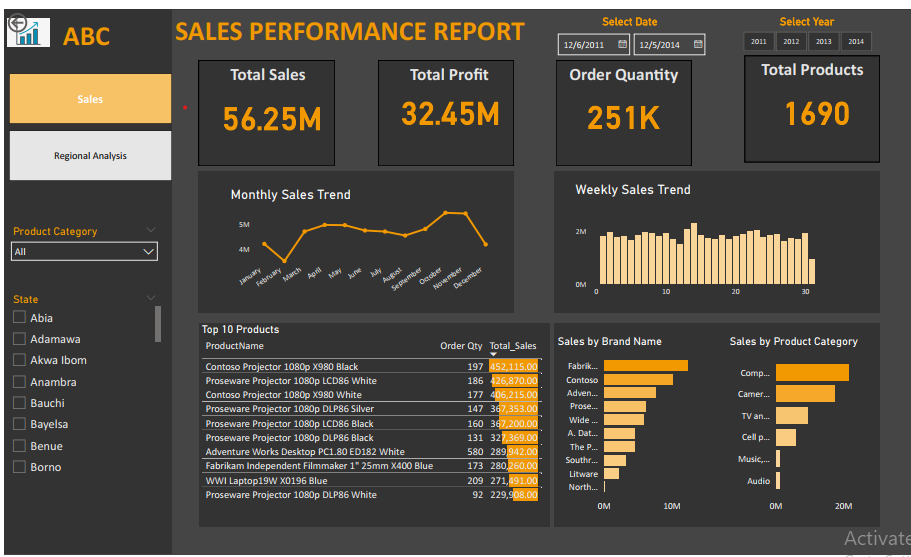

Layout of this report page (visuals, bound fields, positions):
{"tool":"powerbi","page":{"name":"Sales","canvas":[1440,840],"ordinal":0},"visuals":[{"type":"shape","box":[0,0,258.4,840.3],"z":0},{"type":"image","box":[0,7.9,75,55.2],"z":1000},{"type":"textbox","box":[258.4,0,562.2,63.1],"z":2000},{"type":"textbox","box":[84.8,7.9,90.7,63.1],"z":3000},{"type":"shape","box":[299.3,77.7,210,163.7],"z":4000},{"type":"card","fields":{"Values":["Sales_Data.Total_Sales"]},"box":[299.8,130.6,222.9,63.1],"z":5000},{"type":"textbox","box":[343.2,79.3,138.1,51.3],"z":6000},{"type":"shape","box":[576.1,77.8,209.1,163.7],"z":7000},{"type":"card","fields":{"Values":["Sales_Data.Total_Profit"]},"box":[576.1,122.4,222.9,63.1],"z":8000},{"type":"textbox","box":[620.1,77.7,163.7,51.3],"z":9000},{"type":"shape","box":[849.9,77.6,209.1,163.7],"z":10000},{"type":"card","fields":{"Values":["Sales_Data.Total_Orders_Quantity"]},"box":[842.1,129.1,222.9,63.1],"z":11000},{"type":"textbox","box":[849.9,77.6,209.1,51.3],"z":12000},{"type":"shape","box":[1140.9,71.1,208.3,163.7],"z":13000},{"type":"card","fields":{"Values":["Sales_Product.Total_Products"]},"box":[1140.3,122.4,222.9,63.1],"z":14000},{"type":"textbox","box":[1161.9,71,187.4,51.3],"z":15000},{"type":"shape","box":[299.3,249.7,486.1,218.3],"z":16000},{"type":"shape","box":[848.3,249.7,501,218.3],"z":17000},{"type":"shape","box":[299.3,482.8,540.7,314.2],"z":18000},{"type":"shape","box":[848.3,482.8,501,314.2],"z":19000},{"type":"lineChart","title":"Monthly Sales Trend","fields":{"Y":["Sales_Data.Total_Sales"],"Category":["Sales_Data.Order Date.Variation.Date Hierarchy.Month"]},"box":[343.9,272.8,415,172],"z":20000},{"type":"actionButton","box":[0,0,100,40],"z":21000},{"type":"clusteredColumnChart","title":"Weekly Sales Trend","fields":{"Y":["Sales_Data.Total_Sales"],"Category":["Sales_Data.Order Date.Variation.Date Hierarchy.Day"]},"box":[874.7,264.6,425,186.9],"z":22000},{"type":"tableEx","title":"Top 10 Products","fields":{"Values":["Sales_Product.ProductName","Sum(Sales_Data.Order Qty)","Sales_Data.Total_Sales"]},"box":[299.3,482.8,540.7,300.9],"z":23000},{"type":"clusteredBarChart","title":"Sales by Brand Name","fields":{"Y":["Sales_Data.Total_Sales"],"Category":["Sales_Product.BrandName"]},"box":[848.3,501,251.3,282.8],"z":24000},{"type":"clusteredBarChart","title":"Sales by Product Category","fields":{"Y":["Sales_Data.Total_Sales"],"Category":["Sales_Product_Sub_Cat.Product Category"]},"box":[1112.8,501,251.3,282.8],"z":25000},{"type":"slicer","title":"Select Date","fields":{"Values":["Sales_Data.Order Date"]},"box":[840,8.3,248,62.8],"z":26000},{"type":"slicer","title":"Select Year","fields":{"Values":["Sales_Data.Order Date.Variation.Date Hierarchy.Year"]},"box":[1112.8,8.3,248,62.8],"z":27000},{"type":"slicer","fields":{"Values":["Sales_Product_Sub_Cat.Product Category"]},"box":[0,327.4,246.4,62.8],"z":28000},{"type":"slicer","fields":{"Values":["Sales_State.State"]},"box":[0,431.6,246.4,291],"z":29000},{"type":"pageNavigator","box":[6.6,97.6,251.3,167],"z":30000}]}

Visuals, with their boxes on the page's 1440x840 design canvas (x1, y1, x2, y2). These are canvas units, not pixel positions in the 911x557 screenshot, which may show the page scaled, cropped or inside an application window:
shape: (x1=0, y1=0, x2=258, y2=840)
image: (x1=0, y1=8, x2=75, y2=63)
textbox: (x1=258, y1=0, x2=821, y2=63)
textbox: (x1=85, y1=8, x2=176, y2=71)
shape: (x1=299, y1=78, x2=509, y2=241)
card - Sales_Data.Total_Sales: (x1=300, y1=131, x2=523, y2=194)
textbox: (x1=343, y1=79, x2=481, y2=131)
shape: (x1=576, y1=78, x2=785, y2=242)
card - Sales_Data.Total_Profit: (x1=576, y1=122, x2=799, y2=186)
textbox: (x1=620, y1=78, x2=784, y2=129)
shape: (x1=850, y1=78, x2=1059, y2=241)
card - Sales_Data.Total_Orders_Quantity: (x1=842, y1=129, x2=1065, y2=192)
textbox: (x1=850, y1=78, x2=1059, y2=129)
shape: (x1=1141, y1=71, x2=1349, y2=235)
card - Sales_Product.Total_Products: (x1=1140, y1=122, x2=1363, y2=186)
textbox: (x1=1162, y1=71, x2=1349, y2=122)
shape: (x1=299, y1=250, x2=785, y2=468)
shape: (x1=848, y1=250, x2=1349, y2=468)
shape: (x1=299, y1=483, x2=840, y2=797)
shape: (x1=848, y1=483, x2=1349, y2=797)
"Monthly Sales Trend" lineChart: (x1=344, y1=273, x2=759, y2=445)
actionButton: (x1=0, y1=0, x2=100, y2=40)
"Weekly Sales Trend" clusteredColumnChart: (x1=875, y1=265, x2=1300, y2=452)
"Top 10 Products" tableEx: (x1=299, y1=483, x2=840, y2=784)
"Sales by Brand Name" clusteredBarChart: (x1=848, y1=501, x2=1100, y2=784)
"Sales by Product Category" clusteredBarChart: (x1=1113, y1=501, x2=1364, y2=784)
"Select Date" slicer: (x1=840, y1=8, x2=1088, y2=71)
"Select Year" slicer: (x1=1113, y1=8, x2=1361, y2=71)
slicer - Sales_Product_Sub_Cat.Product Category: (x1=0, y1=327, x2=246, y2=390)
slicer - Sales_State.State: (x1=0, y1=432, x2=246, y2=723)
pageNavigator: (x1=7, y1=98, x2=258, y2=265)
